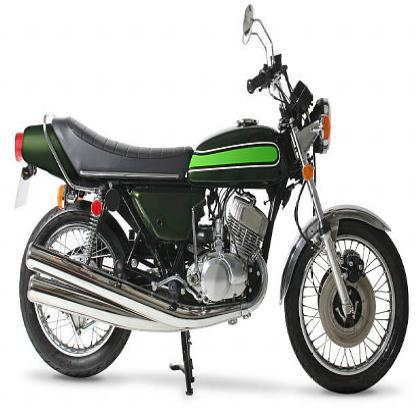Motorcycle: (12, 5, 412, 395)
